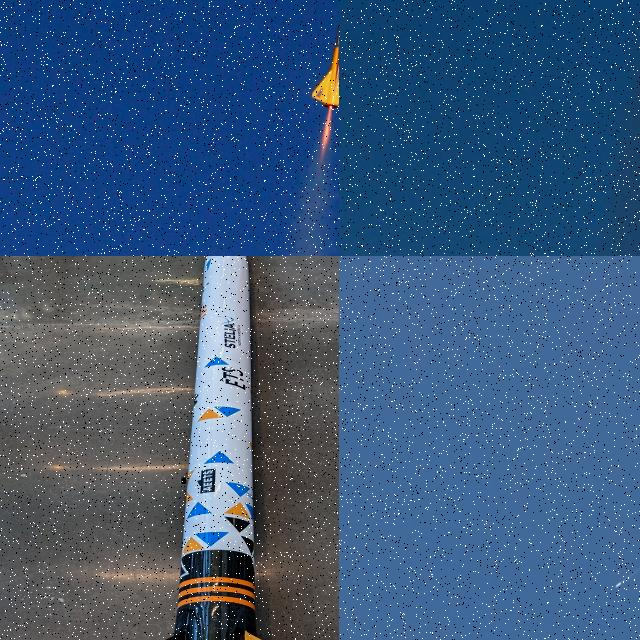Rocket: (164, 256, 264, 640), (310, 0, 339, 109), (614, 581, 622, 588)
